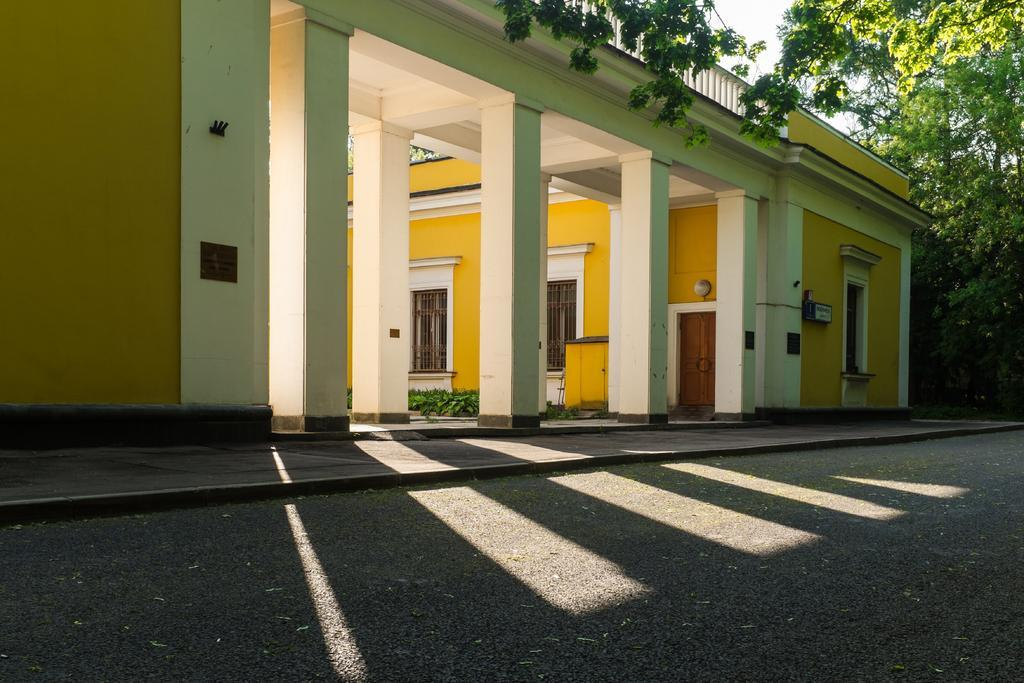door: (677, 317, 713, 403)
